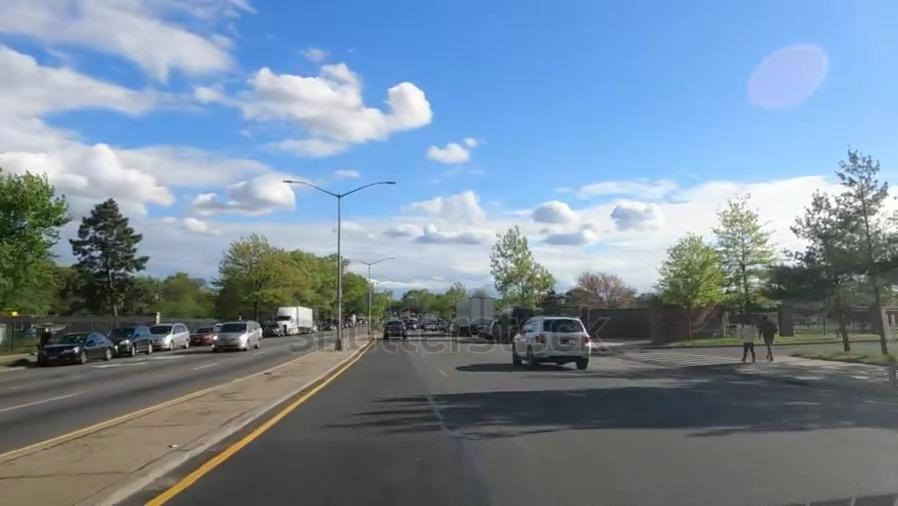car: (507, 313, 599, 366), (45, 332, 113, 361), (213, 323, 255, 348), (114, 327, 147, 354), (149, 326, 183, 348), (382, 319, 407, 342), (189, 327, 213, 343)
person: (761, 312, 784, 358), (739, 318, 755, 357), (35, 322, 51, 343)
truck: (273, 308, 318, 333)
